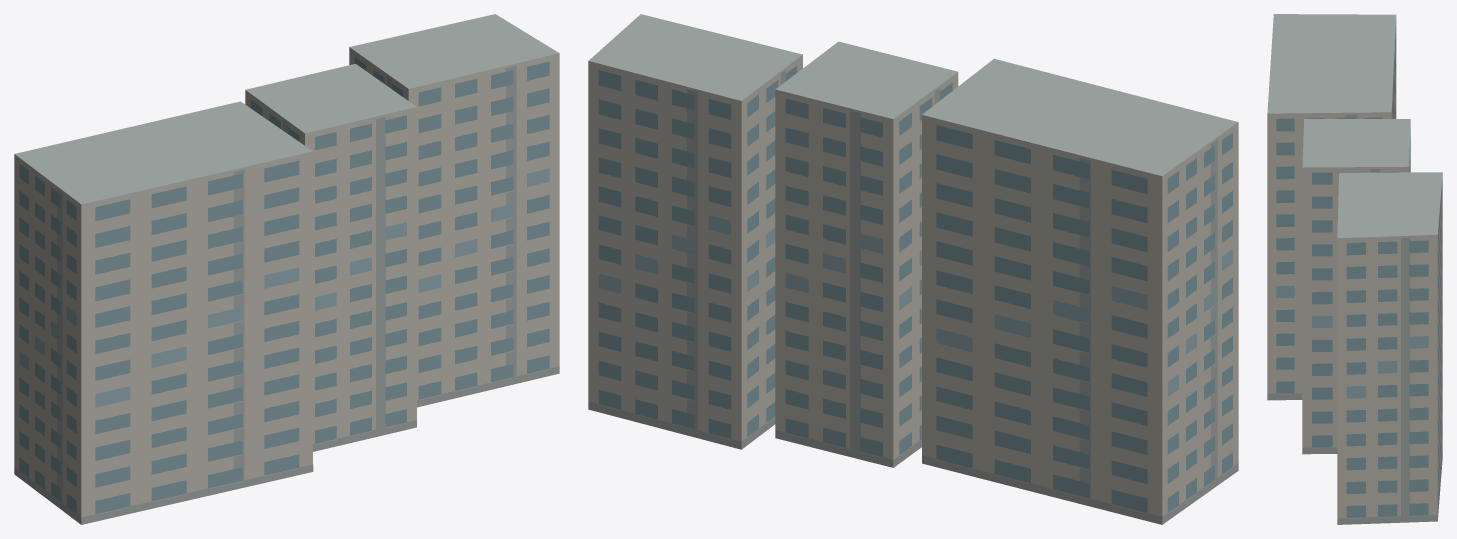
File: residential-8a2cf2b2-3293-4718-bbf6-421b245c2099.glb
3 renders of one model, left to right at view 1: azimuth 30°, elevation 25°; view 2: azimuth 150°, elevation 25°; view 3: azimuth 270°, elevation 25°, orthographic. The views are drawn at different scales.
Parts seen in each view (by area): view 1: residential-8a2cf2b2-3293-4718-bbf6-421b245c2099.tmp; view 2: residential-8a2cf2b2-3293-4718-bbf6-421b245c2099.tmp; view 3: residential-8a2cf2b2-3293-4718-bbf6-421b245c2099.tmp.
Part boxes in pixels (bbox=[...]): residential-8a2cf2b2-3293-4718-bbf6-421b245c2099.tmp: bbox=[14, 14, 559, 524]; residential-8a2cf2b2-3293-4718-bbf6-421b245c2099.tmp: bbox=[588, 14, 1238, 524]; residential-8a2cf2b2-3293-4718-bbf6-421b245c2099.tmp: bbox=[1267, 14, 1442, 524].
Bounding box in the file's own units: 57.05 × 34 × 18.84.
